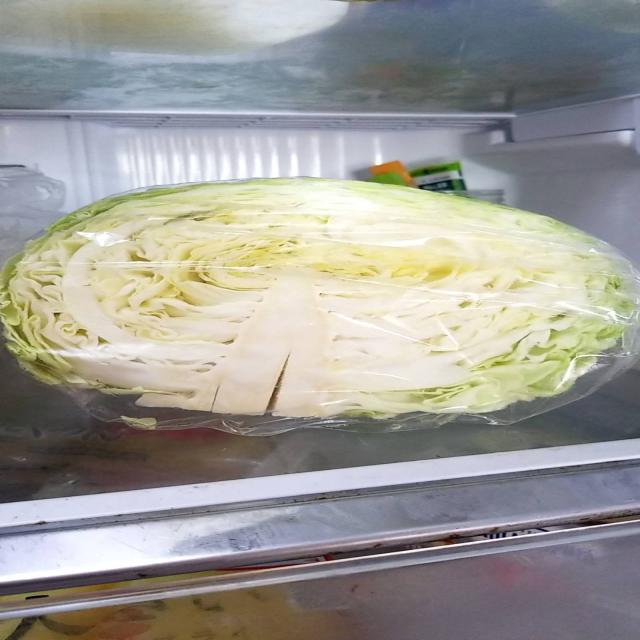cabbage: (0, 175, 635, 420)
